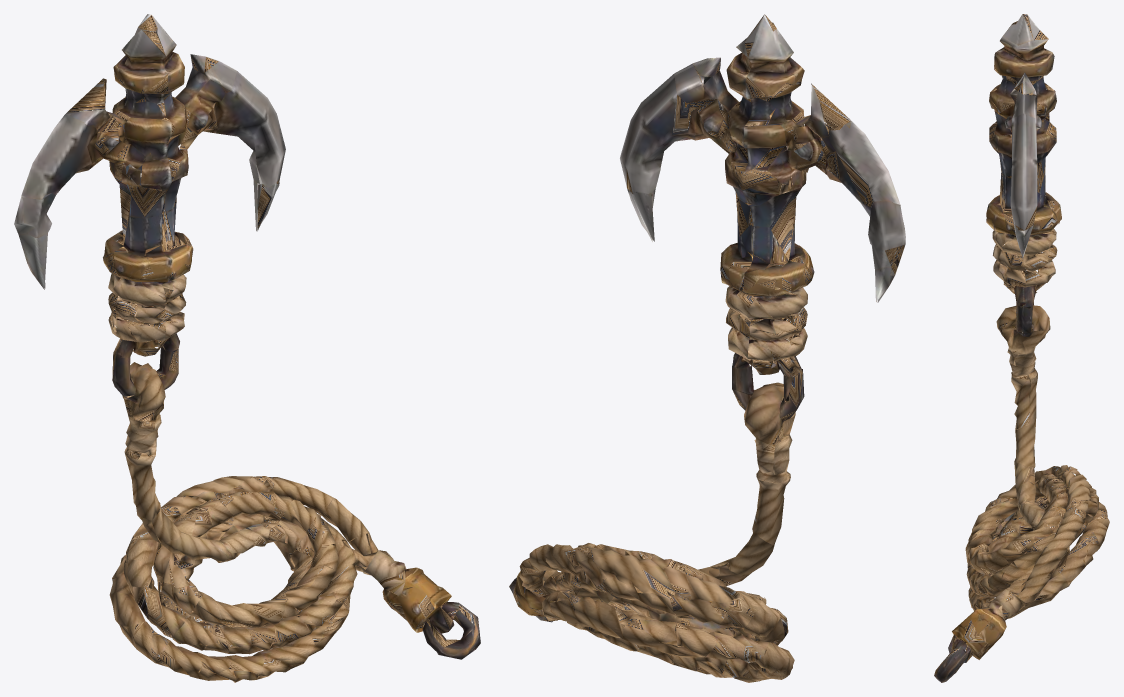
Rendered from equip_sera_grapple.glb.
3 views of the same model, side by side, from view 1: azimuth 30°, elevation 25°; view 2: azimuth 150°, elevation 25°; view 3: azimuth 270°, elevation 25° (orthographic). The views are drawn at different scales.
Parts seen in each view (by area): view 1: Mesh_0; view 2: Mesh_0; view 3: Mesh_0.
Boxes of the visible parts, box(x1,y1,x2,y2) form: Mesh_0: box(14, 14, 480, 682); Mesh_0: box(509, 14, 905, 682); Mesh_0: box(934, 14, 1109, 682).
Bounding box in the file's own units: 1.23 × 1.89 × 0.5368.
Materials: 1 (1 with a texture image).
